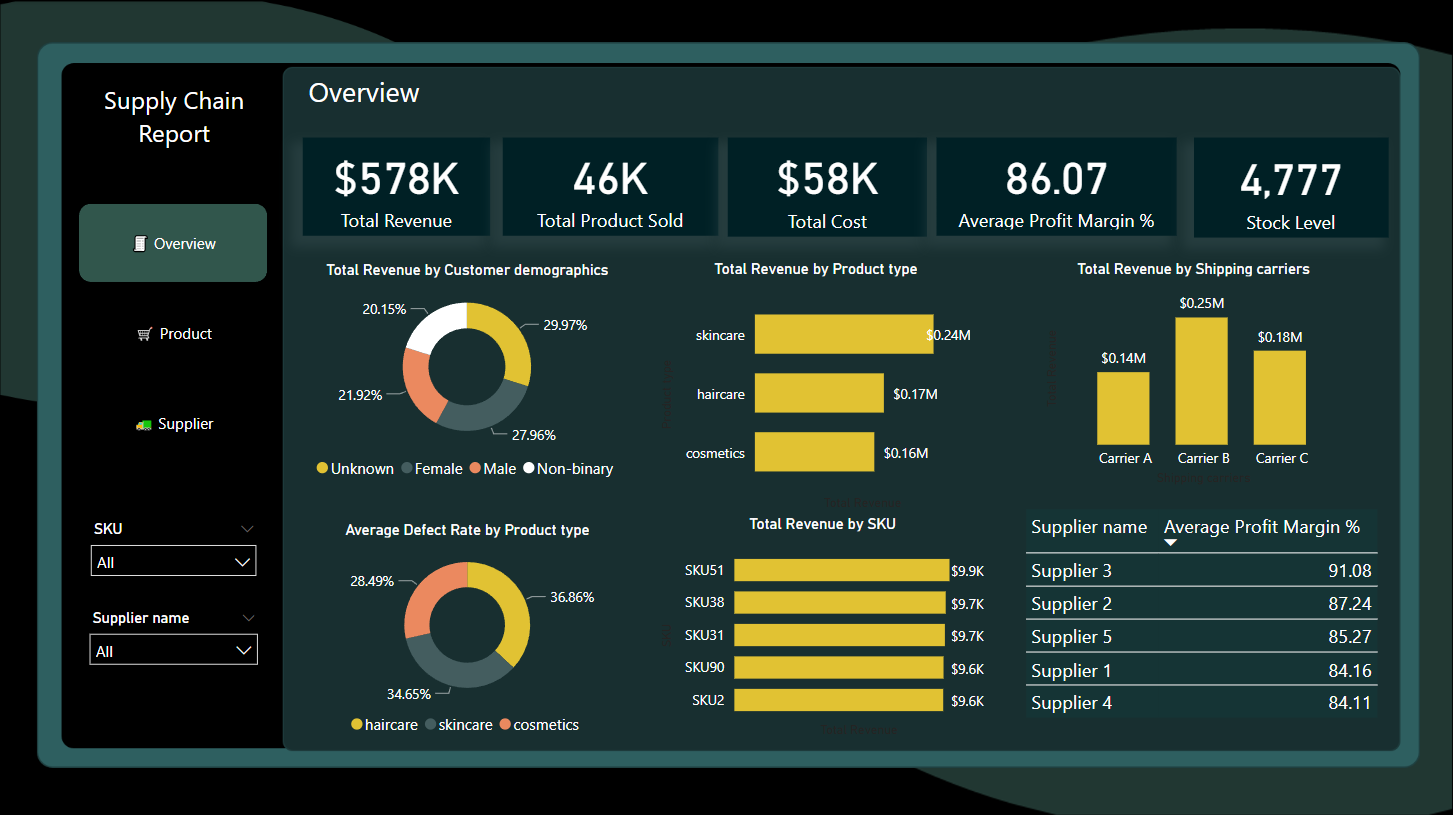

The dashboard page shown, as its layout file describes it:
{"tool":"powerbi","page":{"name":"🧾  Overview","canvas":[1280,720],"ordinal":0},"visuals":[{"type":"card","fields":{"Values":["_Measures.Total Revenue"]},"box":[267.4,120.9,165.1,86],"z":0},{"type":"card","fields":{"Values":["_Measures.Total Product Sold"]},"box":[442.9,120.9,189.5,86],"z":1000},{"type":"card","fields":{"Values":["_Measures.Total Cost"]},"box":[640.6,120.9,175.5,87.2],"z":2000},{"type":"card","fields":{"Values":["_Measures.Average Profit Margin %"]},"box":[824.3,120.9,211.6,86],"z":3000},{"type":"card","fields":{"Values":["_Measures.Stock Level"]},"box":[1051,120.9,170.9,88.4],"z":4000},{"type":"donutChart","fields":{"Y":["_Measures.Total Revenue"],"Category":["supply_chain_data.Customer demographics"]},"box":[267.4,230.2,289.5,201.1],"z":5000},{"type":"donutChart","fields":{"Y":["_Measures.Average Defect Rate"],"Category":["supply_chain_data.Product type"]},"box":[267.4,458.1,289.5,197.6],"z":6000},{"type":"clusteredBarChart","fields":{"Y":["_Measures.Total Revenue"],"Category":["supply_chain_data.Product type"]},"box":[576.6,229,282.5,224.4],"z":7000},{"type":"clusteredBarChart","fields":{"Y":["_Measures.Total Revenue"],"Category":["supply_chain_data.SKU"]},"box":[576.6,453.4,294.1,200],"z":8000},{"type":"columnChart","fields":{"Y":["_Measures.Total Revenue"],"Category":["supply_chain_data.Shipping carriers"]},"box":[916.1,229,269.7,202.3],"z":9000},{"type":"tableEx","fields":{"Values":["supply_chain_data.Supplier name","_Measures.Average Profit Margin %"]},"box":[897.5,442.9,324.4,210.4],"z":10000},{"type":"textbox","box":[267.4,59.3,165.1,48.8],"z":11000},{"type":"pageNavigator","box":[69.7,179.9,166.2,229],"z":12000,"group":"g1"},{"type":"slicer","fields":{"Values":["supply_chain_data.SKU"]},"box":[70.5,453.1,166.2,70.9],"z":13000,"group":"g1"},{"type":"slicer","fields":{"Values":["supply_chain_data.Supplier name"]},"box":[69.1,531.8,168.6,73.2],"z":14000,"group":"g1"},{"type":"textbox","box":[71,68.6,165.1,90.7],"z":15000,"group":"g1"},{"type":"group","id":"g1","title":"Group 1","box":[69.1,68.6,168.6,536.4],"z":15001}]}

Visuals, with their boxes on the page's 1280x720 design canvas (x1, y1, x2, y2). These are canvas units, not pixel positions in the 1453x815 screenshot, which may show the page scaled, cropped or inside an application window:
card - _Measures.Total Revenue: box(267, 121, 432, 207)
card - _Measures.Total Product Sold: box(443, 121, 632, 207)
card - _Measures.Total Cost: box(641, 121, 816, 208)
card - _Measures.Average Profit Margin %: box(824, 121, 1036, 207)
card - _Measures.Stock Level: box(1051, 121, 1222, 209)
donutChart - _Measures.Total Revenue x supply_chain_data.Customer demographics: box(267, 230, 557, 431)
donutChart - _Measures.Average Defect Rate x supply_chain_data.Product type: box(267, 458, 557, 656)
clusteredBarChart - _Measures.Total Revenue x supply_chain_data.Product type: box(577, 229, 859, 453)
clusteredBarChart - _Measures.Total Revenue x supply_chain_data.SKU: box(577, 453, 871, 653)
columnChart - _Measures.Total Revenue x supply_chain_data.Shipping carriers: box(916, 229, 1186, 431)
tableEx - supply_chain_data.Supplier name x _Measures.Average Profit Margin %: box(898, 443, 1222, 653)
textbox: box(267, 59, 432, 108)
pageNavigator: box(70, 180, 236, 409)
slicer - supply_chain_data.SKU: box(70, 453, 237, 524)
slicer - supply_chain_data.Supplier name: box(69, 532, 238, 605)
textbox: box(71, 69, 236, 159)
"Group 1" group: box(69, 69, 238, 605)
